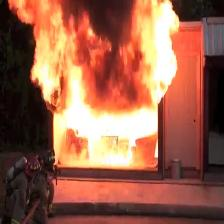fire: (7, 0, 179, 167)
